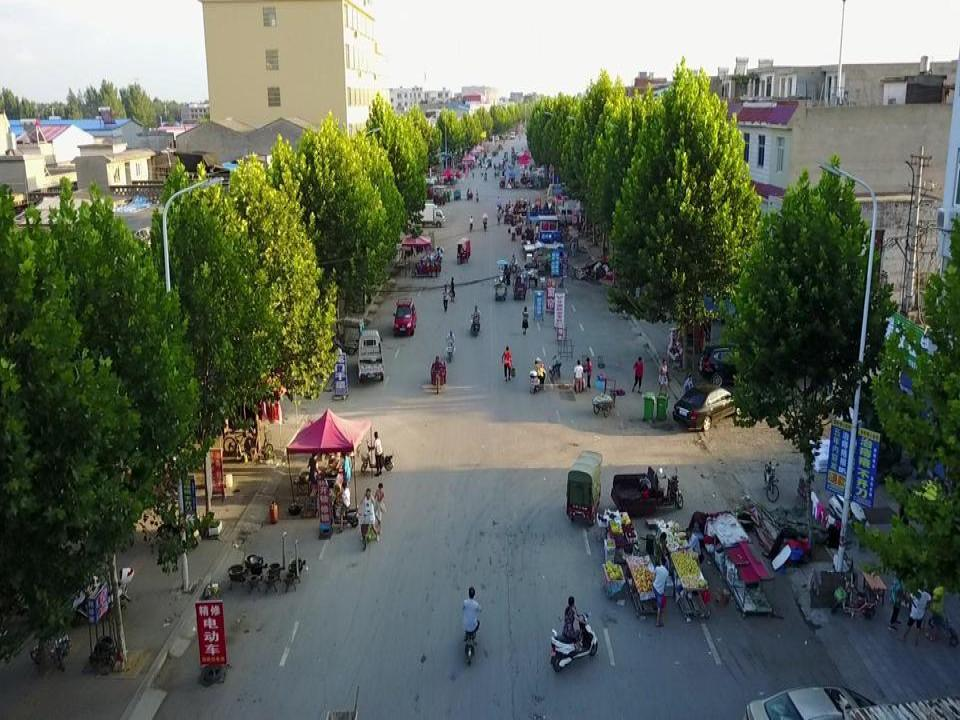car: (739, 684, 884, 720), (672, 384, 743, 432), (698, 344, 775, 387), (393, 297, 417, 336)
truck: (358, 328, 384, 383), (412, 201, 446, 228)
